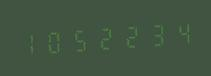five: (67, 22, 91, 56)
four: (167, 15, 191, 49)
one: (17, 26, 41, 60)
three: (142, 17, 166, 51)
two: (92, 20, 116, 55), (117, 19, 141, 53)
zero: (42, 24, 66, 58)
